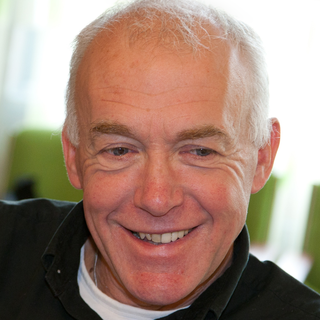eye: (169, 139, 225, 167), (95, 138, 147, 165)
